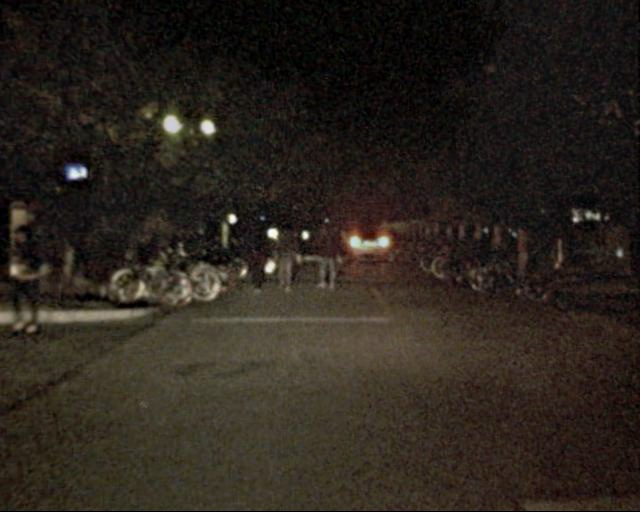person: (2, 219, 64, 335), (241, 217, 269, 291), (310, 221, 338, 292), (275, 221, 301, 295)
